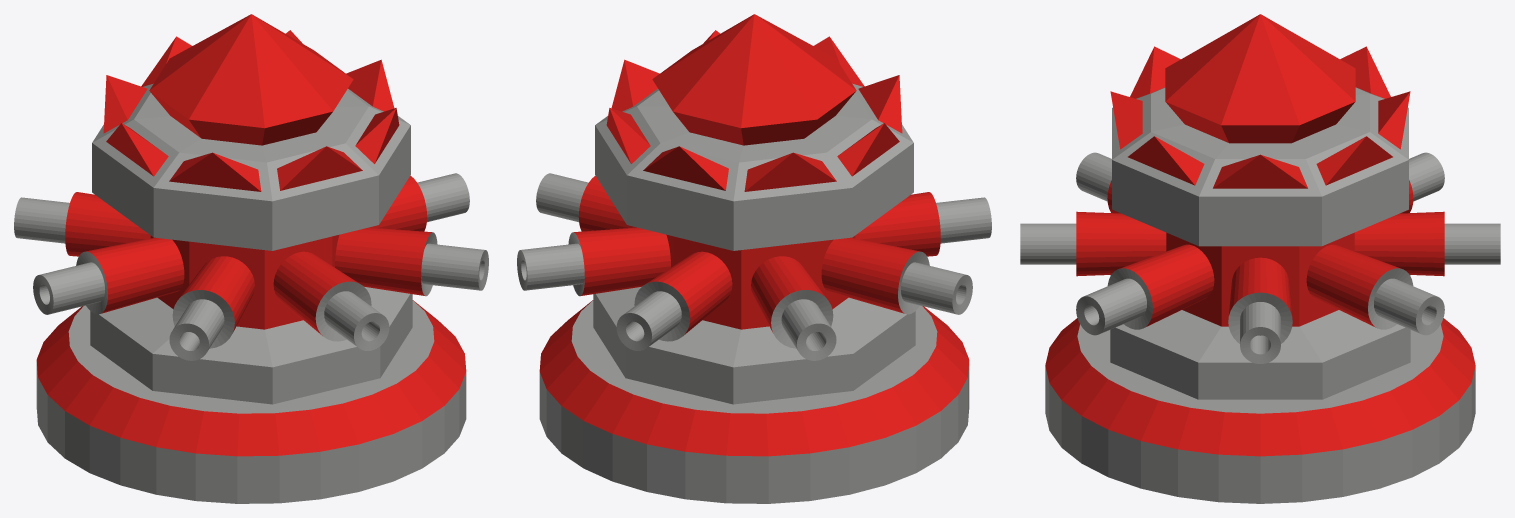
The model's file is spikey_upgraded_fire.fbx.
3 views of the same model, side by side, from view 1: azimuth 30°, elevation 25°; view 2: azimuth 150°, elevation 25°; view 3: azimuth 270°, elevation 25° (orthographic).
Visible parts, largest first — view 1: Circle; view 2: Circle; view 3: Circle.
Part boxes in pixels (<box>): Circle: <box>14,14,488,503</box>; Circle: <box>517,14,991,503</box>; Circle: <box>1020,14,1500,503</box>.
Bounding box in the file's own units: 223 × 205 × 223.
Materials: 1 (1 with a texture image).
